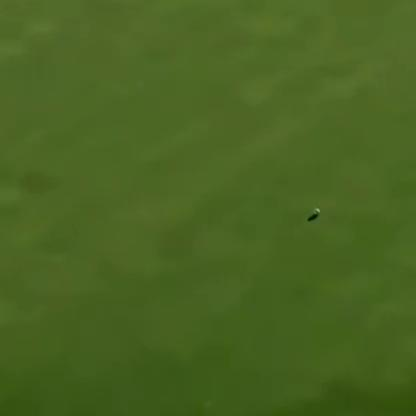golfball: (310, 207, 320, 214)
